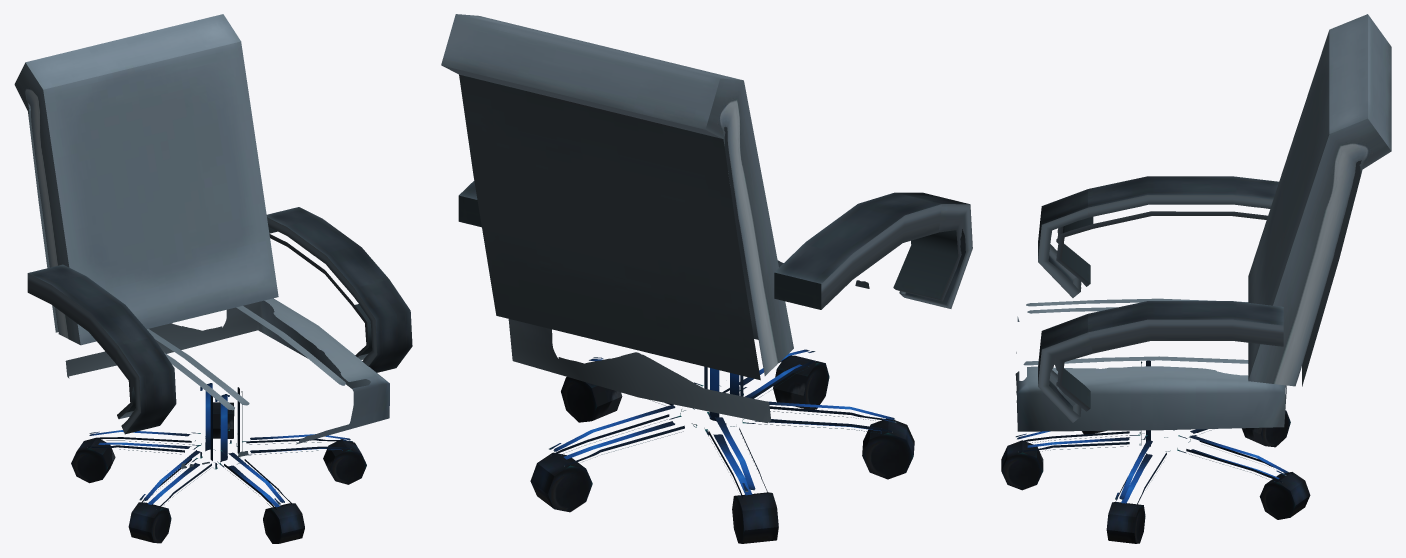
File: chair5.fbx
3 renders of one model, left to right at view 1: azimuth 30°, elevation 25°; view 2: azimuth 150°, elevation 25°; view 3: azimuth 270°, elevation 25°, orthographic. The views are drawn at different scales.
Parts seen in each view (by area): view 1: chair5; view 2: chair5; view 3: chair5.
Part boxes in pixels (x1=…): chair5: x1=14, y1=14, x2=412, y2=543; chair5: x1=441, y1=14, x2=972, y2=543; chair5: x1=1001, y1=14, x2=1391, y2=543.
Bounding box in the file's own units: 7.69 × 10.46 × 8.85.
